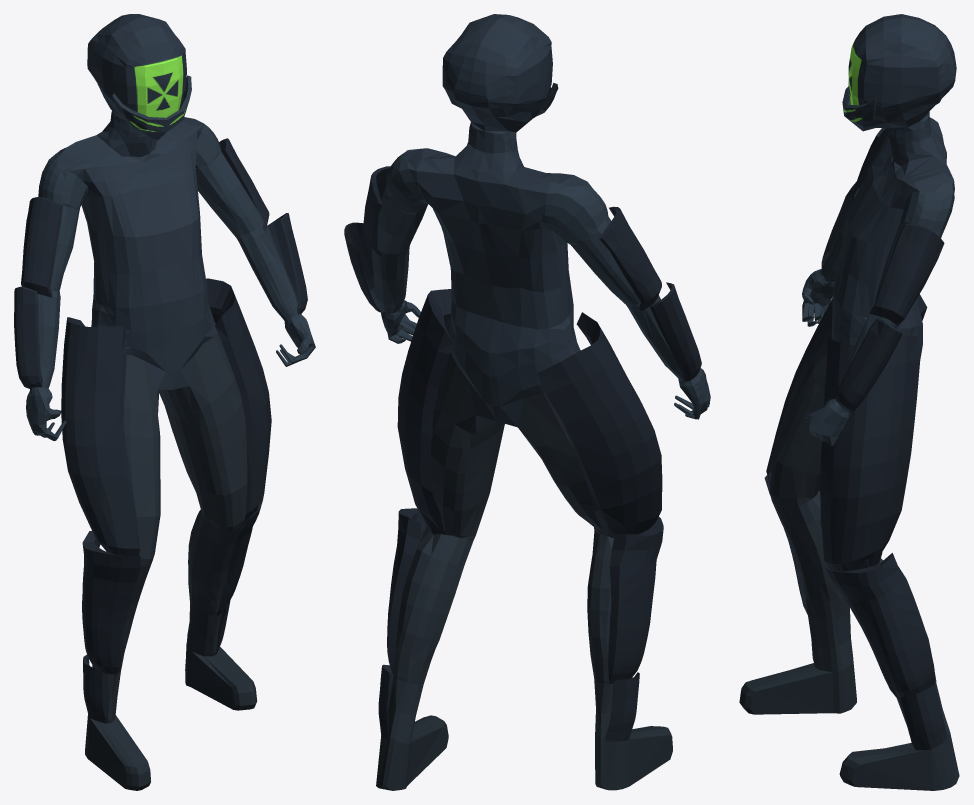
Rendered from Bastion_Stun_000025.obj.
3 renders of one model, left to right at view 1: azimuth 30°, elevation 25°; view 2: azimuth 150°, elevation 25°; view 3: azimuth 270°, elevation 25°, orthographic. The views are drawn at different scales.
Parts seen in each view (by area): view 1: Cube.002; view 2: Cube.002; view 3: Cube.002.
Part boxes in pixels (x1=…): Cube.002: x1=14, y1=14, x2=315, y2=790; Cube.002: x1=344, y1=14, x2=710, y2=790; Cube.002: x1=739, y1=14, x2=959, y2=790.
Bounding box in the file's own units: 1.68 × 3.8 × 1.04.
